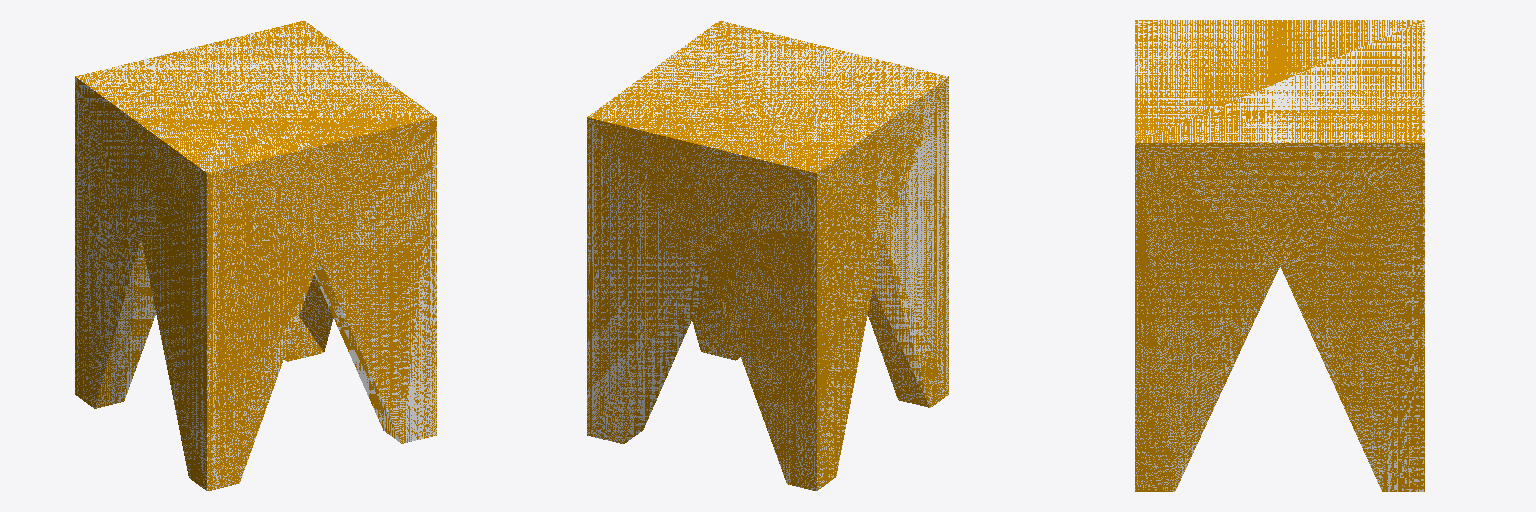
The robot description file, URDF, robot "my_object":
<?xml version="1.0" ?> 
<robot name="my_object" static="true">
  <link name="base_link">
  <inertial>
    <mass value="6.5" />
    <origin xyz="0 0 0.0" />
    <inertia ixx="0.0" ixy="0.0" ixz="0.0" iyy="0.0" iyz="0.0" izz="0.0"/>
  </inertial>
  <visual>
   <origin xyz="0 0 0.0" rpy="0 0 0" />
   <geometry>
     <mesh filename="package://cob_gazebo_objects/Media/models/stool_wood.dae"/>
   </geometry>
  </visual>
  <collision>
   <origin xyz="0 0 0" rpy="0 0 0" />
   <geometry>
     <mesh filename="package://cob_gazebo_objects/Media/models/stool_wood_boundings.dae"/>
   </geometry>
  </collision>     
  </link>

<gazebo reference="base_link">
  <mu1>1.0</mu1>
  <mu2>1.0</mu2>
  <kp>1000000.0</kp>
  <kd>1.0</kd>
</gazebo>

<gazebo>
	<static>false</static>
</gazebo>
</robot>

--- Facts derived from the render (not from the file) ---
The picture shows the robot from 3 angles, left to right: view 1: azimuth 30°, elevation 25°; view 2: azimuth 150°, elevation 25°; view 3: azimuth 270°, elevation 25°; orthographic projection.
Robot: my_object — 1 links, 0 joints (none); root link base_link; default pose: every joint at zero.
Links seen in each view (by area): view 1: base_link; view 2: base_link; view 3: base_link.
Boxes of the visible links, <box> form: base_link: <box>75,21,436,490</box>; base_link: <box>587,21,948,490</box>; base_link: <box>1135,20,1424,491</box>.
Size in the robot's own frame: 0.0086 by 0.0086 by 0.0114 metres.
1 mesh visuals loaded from 1 distinct referenced files (1 Collada DAE).